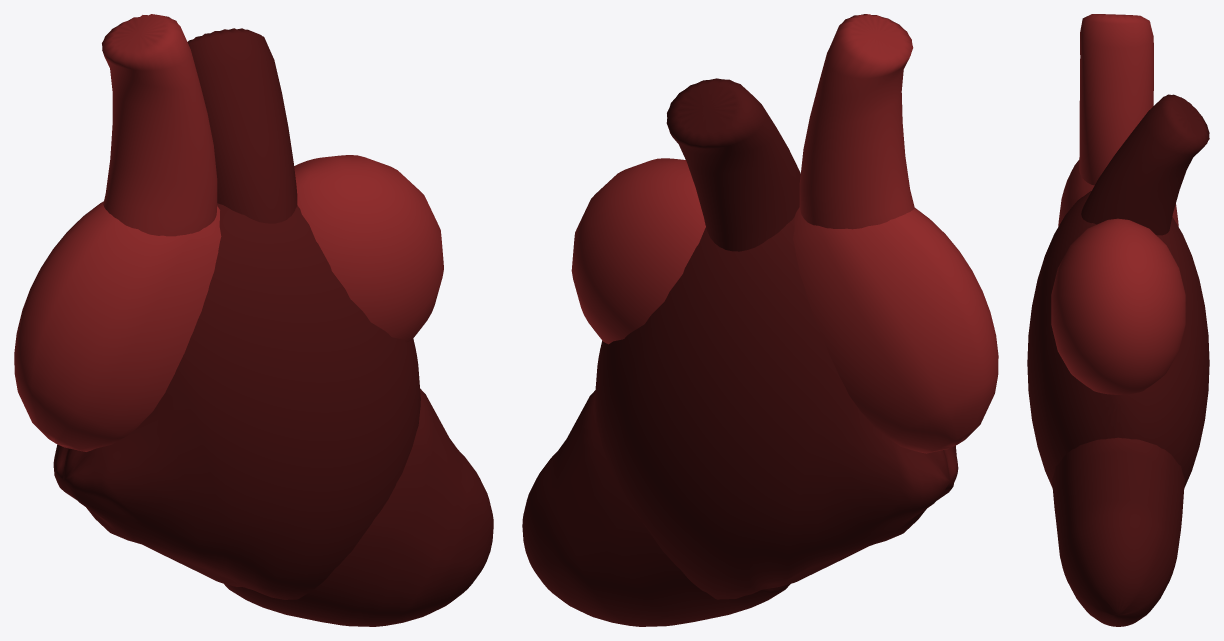
The model's file is heart for game.fbx.
3 renders of one model, left to right at view 1: azimuth 30°, elevation 25°; view 2: azimuth 150°, elevation 25°; view 3: azimuth 270°, elevation 25°, orthographic. The views are drawn at different scales.
Parts seen in each view (by area): view 1: polySurface4, polySurface1, polySurface5, polySurface6, polySurface2, polySurface3; view 2: polySurface4, polySurface1, polySurface5, polySurface6, polySurface2, polySurface3; view 3: polySurface5, polySurface4, polySurface2, polySurface6, polySurface3, polySurface1.
Part boxes in pixels (left/top/right/bottom): polySurface4: left=53, top=203, right=420, bottom=599; polySurface1: left=14, top=201, right=221, bottom=451; polySurface5: left=224, top=388, right=493, bottom=626; polySurface6: left=102, top=14, right=217, bottom=236; polySurface2: left=294, top=155, right=443, bottom=342; polySurface3: left=187, top=28, right=297, bottom=223; polySurface4: left=594, top=218, right=958, bottom=599; polySurface1: left=793, top=207, right=998, bottom=453; polySurface5: left=522, top=390, right=790, bottom=626; polySurface6: left=799, top=14, right=914, bottom=229; polySurface2: left=571, top=158, right=705, bottom=344; polySurface3: left=666, top=78, right=800, bottom=251; polySurface5: left=1052, top=437, right=1184, bottom=626; polySurface4: left=1027, top=191, right=1209, bottom=487; polySurface2: left=1051, top=218, right=1185, bottom=394; polySurface6: left=1079, top=14, right=1153, bottom=185; polySurface3: left=1081, top=94, right=1209, bottom=235; polySurface1: left=1058, top=160, right=1178, bottom=226.
Size of the model in its own units: 4.59 by 6.18 by 2.
